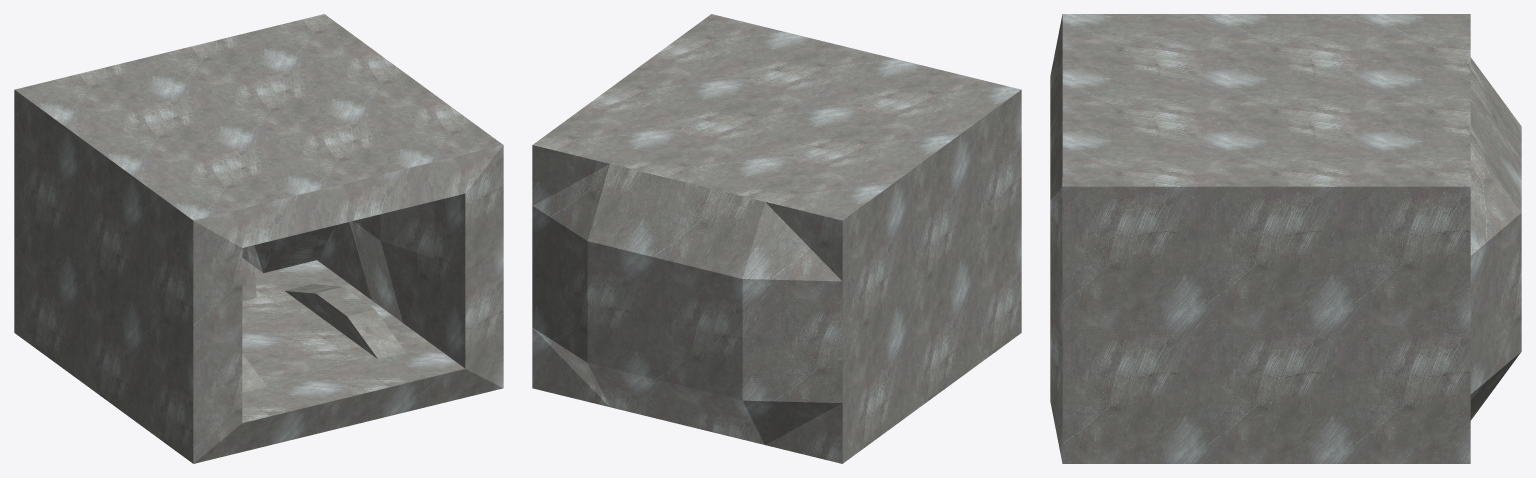
File: hangar.obj
The picture shows the model from 3 angles, left to right: view 1: azimuth 30°, elevation 25°; view 2: azimuth 150°, elevation 25°; view 3: azimuth 270°, elevation 25°; orthographic projection. The views are drawn at different scales.
Visible parts, largest first — view 1: Cube_Cube.001_Material_metal047.jpg; view 2: Cube_Cube.001_Material_metal047.jpg; view 3: Cube_Cube.001_Material_metal047.jpg.
Part boxes in pixels (x1,y1,x2,y2): Cube_Cube.001_Material_metal047.jpg: (14, 14, 503, 463); Cube_Cube.001_Material_metal047.jpg: (532, 14, 1021, 463); Cube_Cube.001_Material_metal047.jpg: (1050, 14, 1521, 463).
Bounding box in the file's own units: 32 × 24 × 36.96.
1 material, 1 textured.
